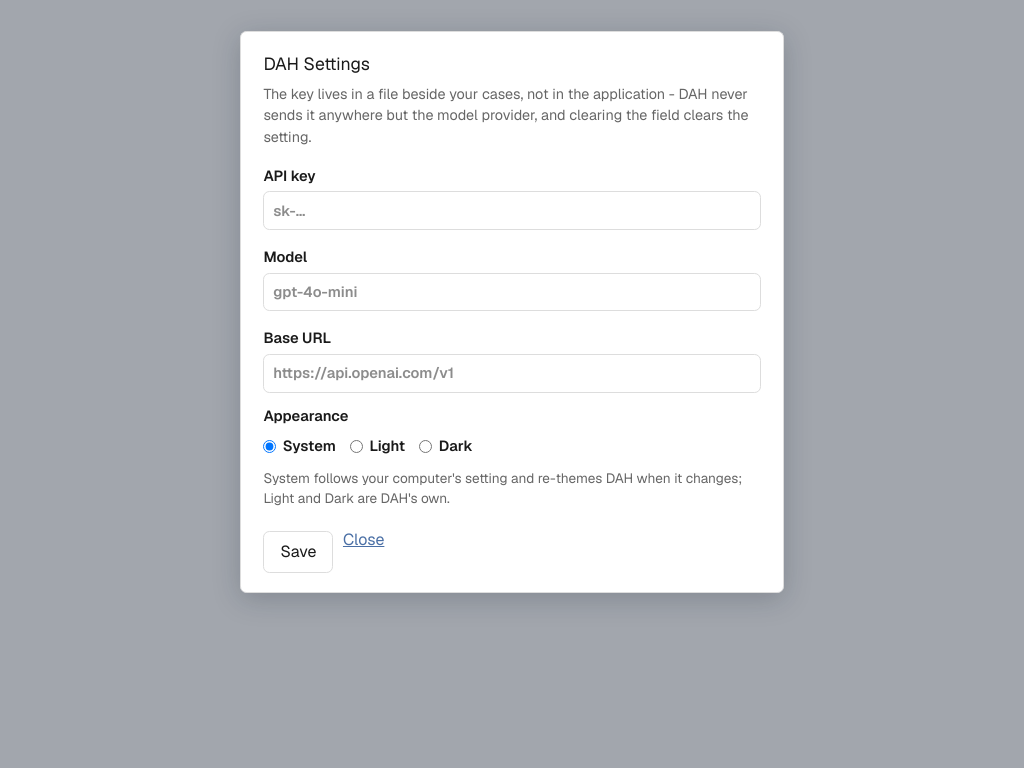
Test: LlmSettingsPanel › keeps the entered values when a save fails
This screenshot has width=1024, height=768.
Type "typed-key" into the password field with placeholder "sk-…".
click(512, 211); type("typed-key")  # box [263, 191, 761, 230]
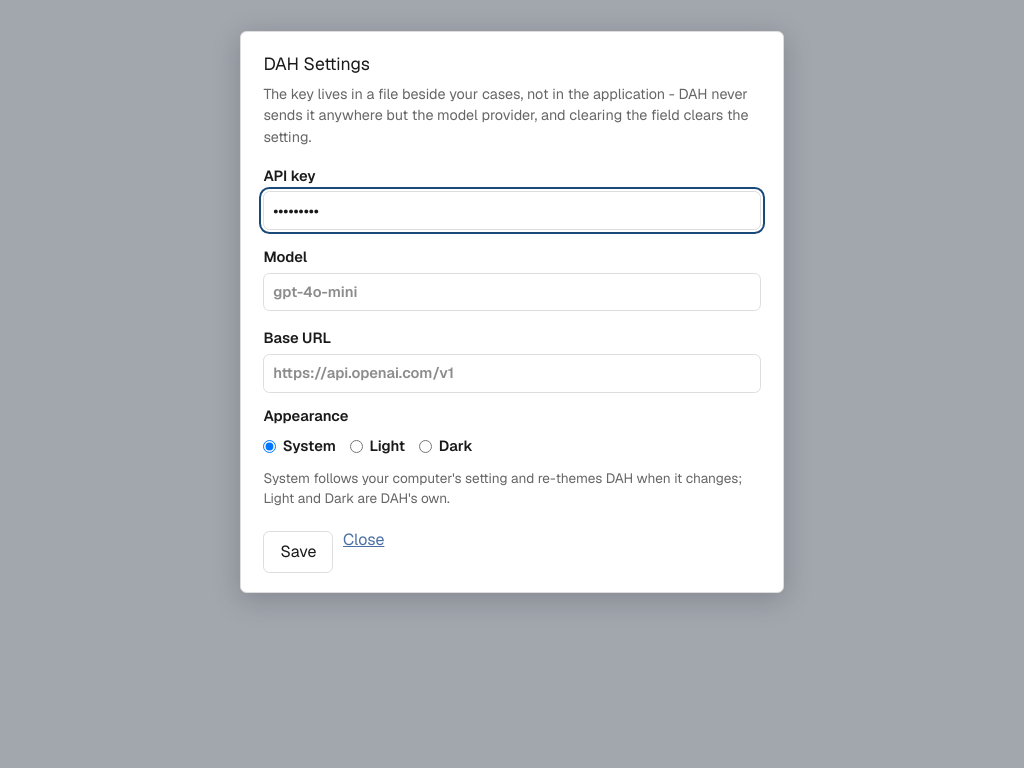
Click the button "Save".
click(298, 552)  # box [263, 531, 333, 573]
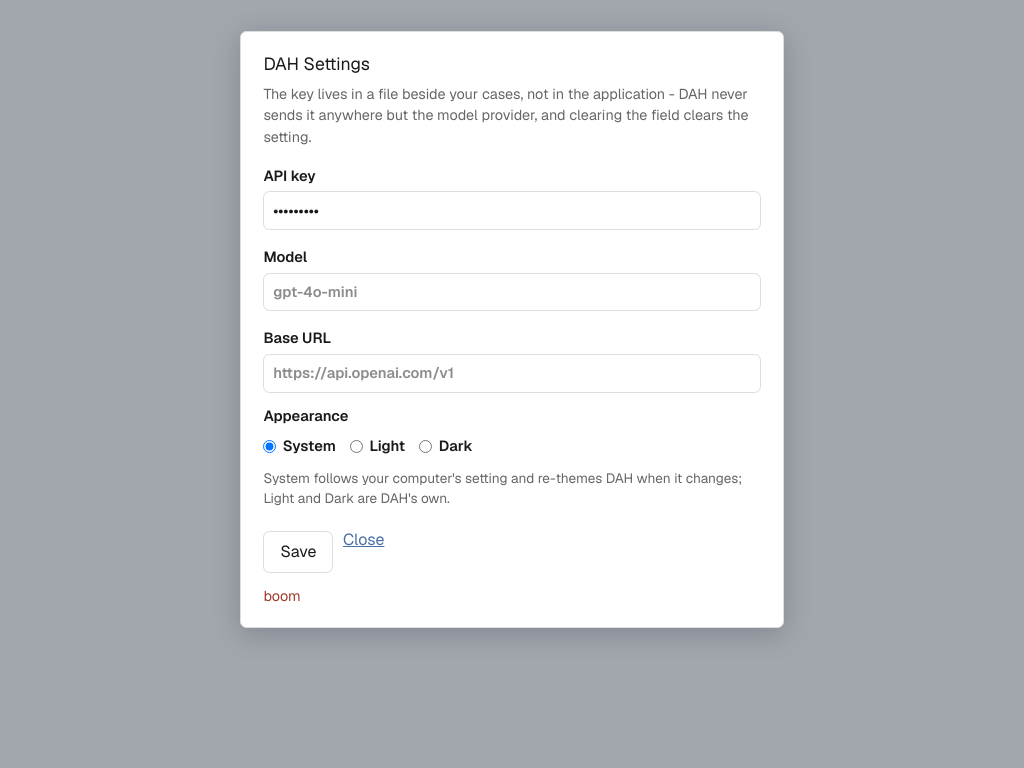
Expected: the text "boom" is shown, [263, 587, 301, 605]
